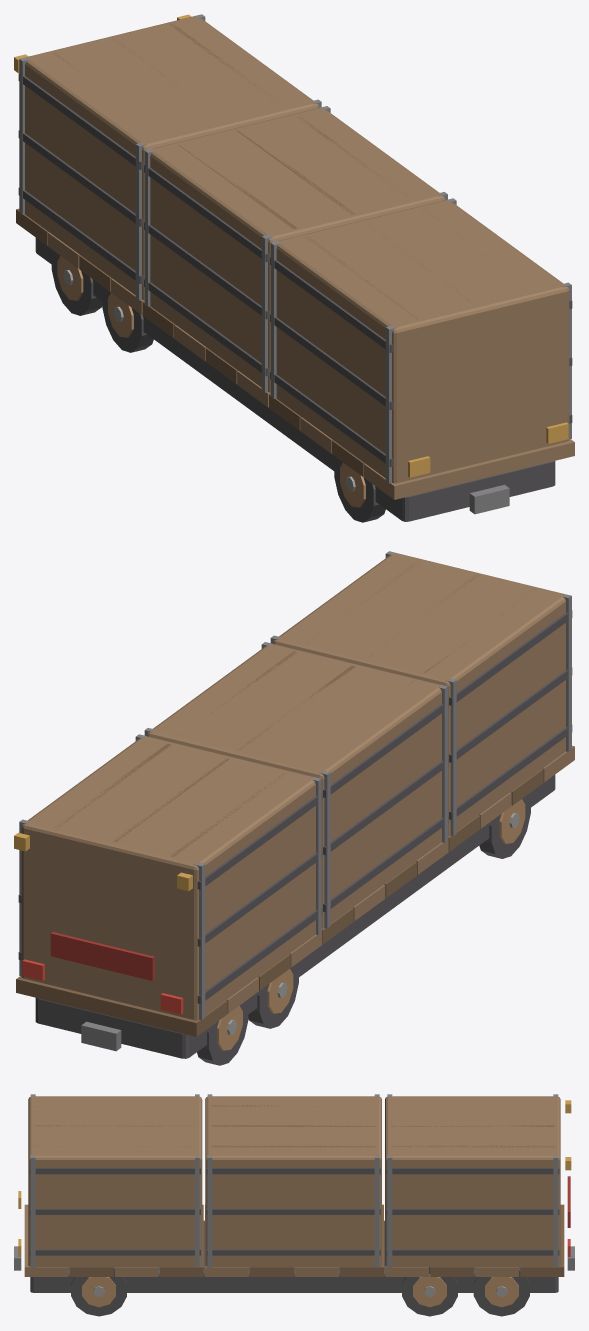
The model's file is rn2-canion-truck.glb.
3 views of the same model, one above another, from view 1: azimuth 30°, elevation 25°; view 2: azimuth 150°, elevation 25°; view 3: azimuth 270°, elevation 25° (orthographic). The views are drawn at different scales.
Visible parts, largest first — view 1: rn2_canion_truck_body, rn2_canion_truck_glow; view 2: rn2_canion_truck_body, rn2_canion_truck_glow; view 3: rn2_canion_truck_body, rn2_canion_truck_glow.
Boxes of the visible parts, x1=… form: rn2_canion_truck_body: x1=16, y1=14, x2=574, y2=522; rn2_canion_truck_glow: x1=14, y1=14, x2=568, y2=477; rn2_canion_truck_body: x1=16, y1=551, x2=574, y2=1065; rn2_canion_truck_glow: x1=14, y1=832, x2=192, y2=1014; rn2_canion_truck_body: x1=14, y1=1094, x2=574, y2=1316; rn2_canion_truck_glow: x1=18, y1=1100, x2=571, y2=1256.
Size of the model in its own units: 2.51 by 3 by 9.36.
